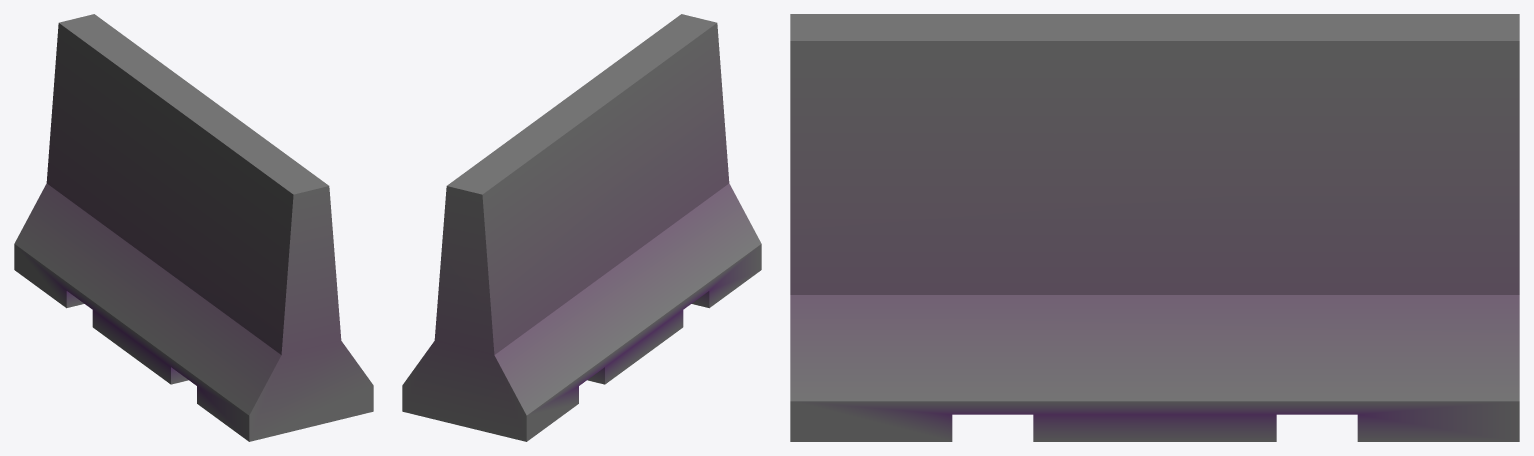
3 views of the same model, side by side, from view 1: azimuth 30°, elevation 25°; view 2: azimuth 150°, elevation 25°; view 3: azimuth 270°, elevation 25° (orthographic). The views are drawn at different scales.
Parts seen in each view (by area): view 1: barrier_solid; view 2: barrier_solid; view 3: barrier_solid.
Boxes of the visible parts, x1,y1,x2,y2 form: barrier_solid: (14, 14, 373, 441); barrier_solid: (402, 14, 761, 441); barrier_solid: (790, 14, 1519, 441).
Bounding box in the file's own units: 0.6112 × 1.11 × 2.
